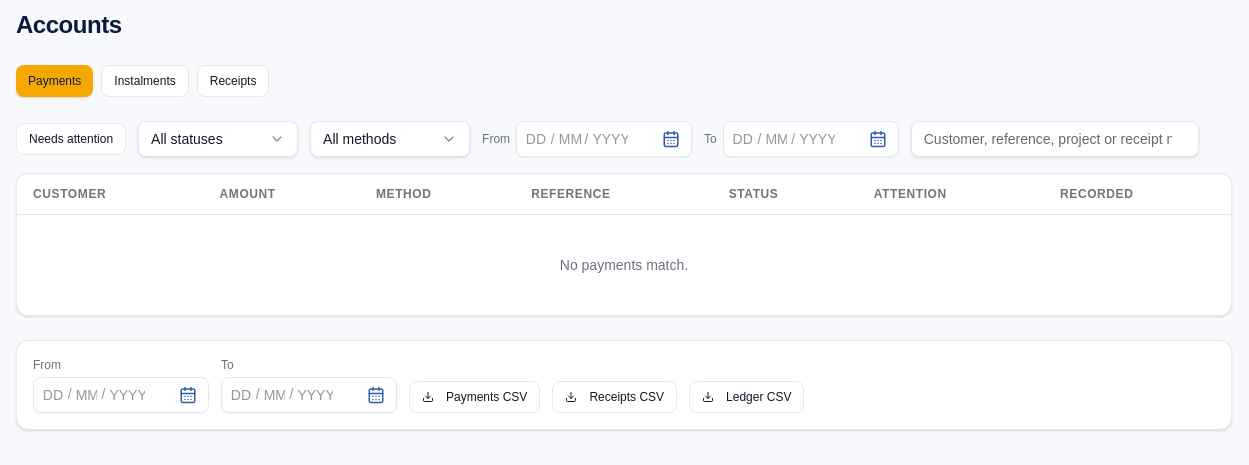
Accounts workspace — direct customers › instalments: direct milestones after the associate ones, tagged and linked to the lead
Click the tab "Instalments": (145, 81) [101,65,189,97]
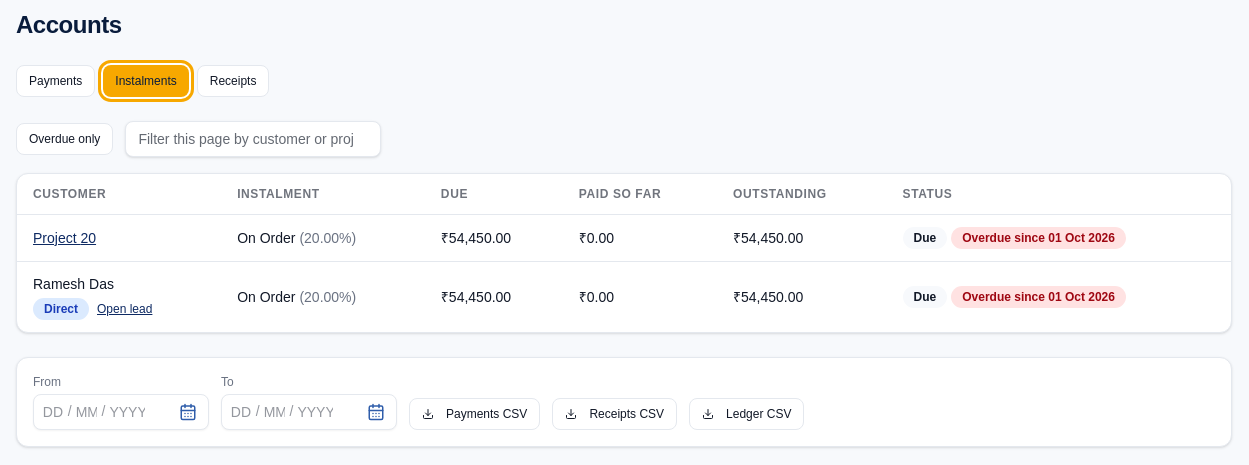
Check: the number of rows with test id "milestone-row" is 2, box [17,214,1231,261]; [17,261,1231,332]
Check: the text "Direct" is shown, box [33,298,89,320]
